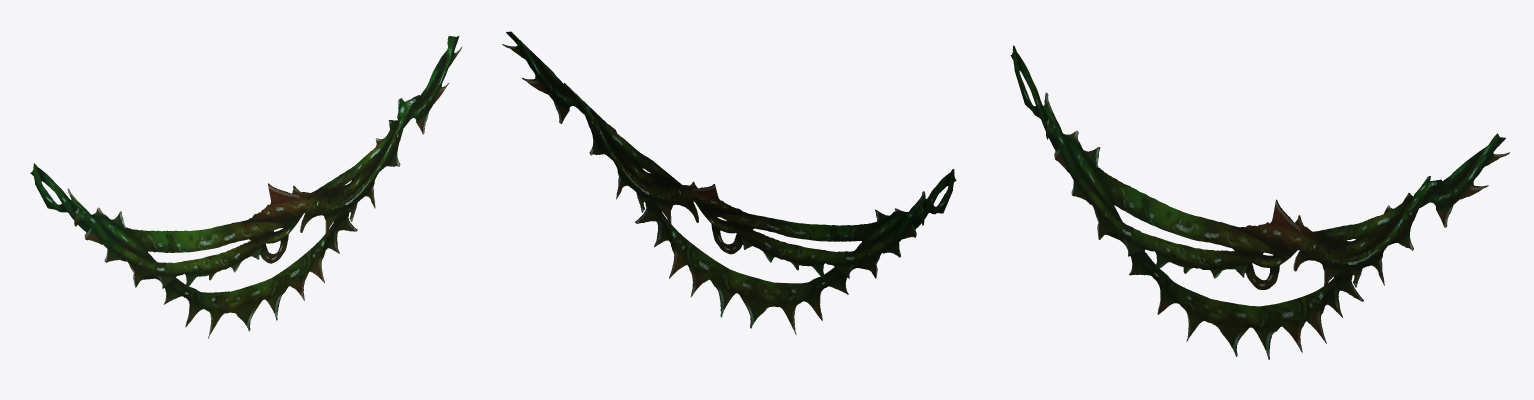
The model's file is stemple_largevinewall_straight_03.fbx.
The picture shows the model from 3 angles, left to right: view 1: azimuth 30°, elevation 25°; view 2: azimuth 150°, elevation 25°; view 3: azimuth 330°, elevation 25°; orthographic projection. The views are drawn at different scales.
Parts seen in each view (by area): view 1: sunken_tileset/sunken_plants03_mat; view 2: sunken_tileset/sunken_plants03_mat; view 3: sunken_tileset/sunken_plants03_mat.
Boxes of the visible parts, <box> form: sunken_tileset/sunken_plants03_mat: <box>30,36,461,338</box>; sunken_tileset/sunken_plants03_mat: <box>502,31,956,334</box>; sunken_tileset/sunken_plants03_mat: <box>1010,45,1509,359</box>.
Bounding box in the file's own units: 6.79 × 4.08 × 0.485.
